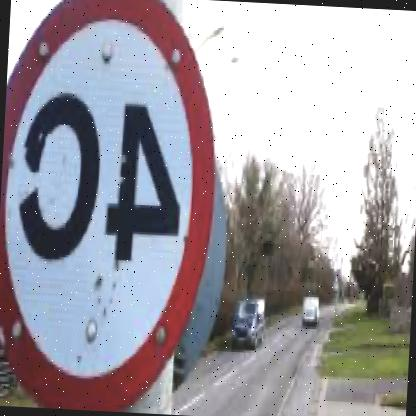speedlimit: (0, 0, 234, 415)
